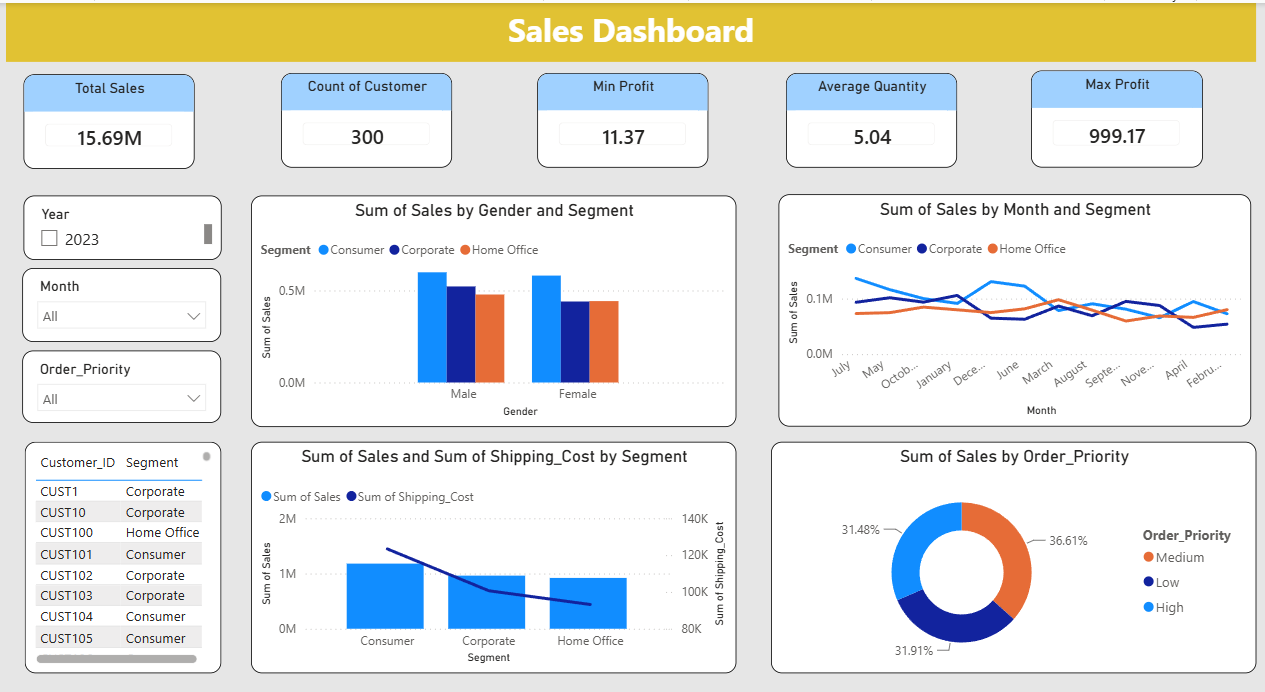

The page's visual inventory and layout, read from the dashboard file:
{"tool":"powerbi","page":{"name":"Page 2","canvas":[1280,750],"ordinal":1},"visuals":[{"type":"textbox","box":[10.2,0,1256.8,59.4],"z":0},{"type":"cardVisual","title":"Total Sales","fields":{"Data":["Measure table.Total Sales"]},"box":[28.1,71.7,172,95],"z":1000},{"type":"cardVisual","title":"Count of Customer","fields":{"Data":["Measure table.Count Customer"]},"box":[286.3,70.4,172,95],"z":2000},{"type":"cardVisual","title":"Min Profit","fields":{"Data":["Measure table.MIN"]},"box":[544.3,70.4,172,95],"z":3000},{"type":"cardVisual","title":"Max Profit","fields":{"Data":["Measure table.Max Profit"]},"box":[1040.7,67.9,172.4,97.8],"z":4000},{"type":"cardVisual","title":"Average Quantity","fields":{"Data":["Measure table.Average quantity"]},"box":[793.7,70.4,172,95],"z":5000},{"type":"slicer","fields":{"Values":["sales.Year"]},"box":[28.1,193.2,199.3,64.8],"z":6000},{"type":"slicer","fields":{"Values":["sales.Month"]},"box":[26.4,266.4,199.8,74.1],"z":7000},{"type":"slicer","fields":{"Values":["sales.Order_Priority"]},"box":[26.4,349.4,199.8,72.9],"z":8000},{"type":"clusteredColumnChart","fields":{"Category":["customer.Gender"],"Series":["customer.Segment"],"Y":["Sum(sales.Sales)"]},"box":[256.2,193.8,488,233],"z":9000},{"type":"lineChart","fields":{"Category":["sales.Month"],"Series":["customer.Segment"],"Y":["Sum(sales.Sales)"]},"box":[787.2,192.3,475,233.8],"z":10000},{"type":"lineClusteredColumnComboChart","fields":{"Category":["customer.Segment"],"Y":["Sum(sales.Sales)"],"Y2":["Sum(sales.Shipping_Cost)"]},"box":[256,440.7,488,233],"z":11000},{"type":"donutChart","fields":{"Category":["sales.Order_Priority"],"Y":["Sum(sales.Sales)"]},"box":[779.6,440.7,488,233],"z":12000},{"type":"tableEx","fields":{"Values":["customer.Customer_ID","customer.Segment"]},"box":[29.3,440.7,197.4,233.1],"z":13000}]}

Visuals, with their boxes on the page's 1280x750 design canvas (x1, y1, x2, y2). These are canvas units, not pixel positions in the 1265x692 screenshot, which may show the page scaled, cropped or inside an application window:
textbox: rect(10, 0, 1267, 59)
"Total Sales" cardVisual: rect(28, 72, 200, 167)
"Count of Customer" cardVisual: rect(286, 70, 458, 165)
"Min Profit" cardVisual: rect(544, 70, 716, 165)
"Max Profit" cardVisual: rect(1041, 68, 1213, 166)
"Average Quantity" cardVisual: rect(794, 70, 966, 165)
slicer - sales.Year: rect(28, 193, 227, 258)
slicer - sales.Month: rect(26, 266, 226, 340)
slicer - sales.Order_Priority: rect(26, 349, 226, 422)
clusteredColumnChart - customer.Gender x customer.Segment: rect(256, 194, 744, 427)
lineChart - sales.Month x customer.Segment: rect(787, 192, 1262, 426)
lineClusteredColumnComboChart - customer.Segment x Sum(sales.Sales): rect(256, 441, 744, 674)
donutChart - sales.Order_Priority x Sum(sales.Sales): rect(780, 441, 1268, 674)
tableEx - customer.Customer_ID x customer.Segment: rect(29, 441, 227, 674)
